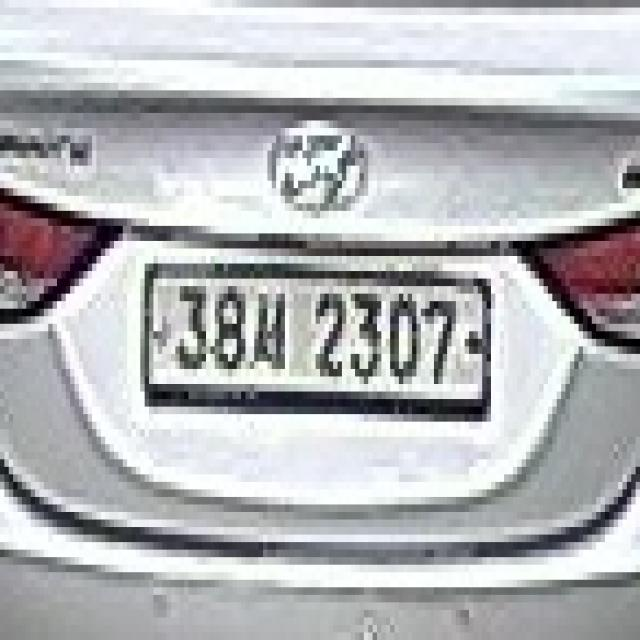0: (386, 286, 416, 392)
2: (307, 286, 342, 377)
3: (346, 286, 386, 384), (176, 278, 210, 376)
7: (421, 286, 456, 384)
8: (215, 286, 245, 369)
license_plate: (145, 256, 495, 414)
seo: (246, 279, 290, 369)
